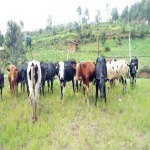Animal: (28, 59, 41, 119), (59, 59, 77, 98), (107, 59, 126, 94), (78, 59, 95, 98), (42, 60, 58, 95), (97, 56, 107, 101), (128, 57, 141, 89), (8, 63, 17, 95)
House: (67, 40, 79, 54)
Uncultivated: (28, 38, 148, 149)
